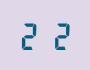two: (19, 20, 44, 50), (45, 20, 70, 50)
